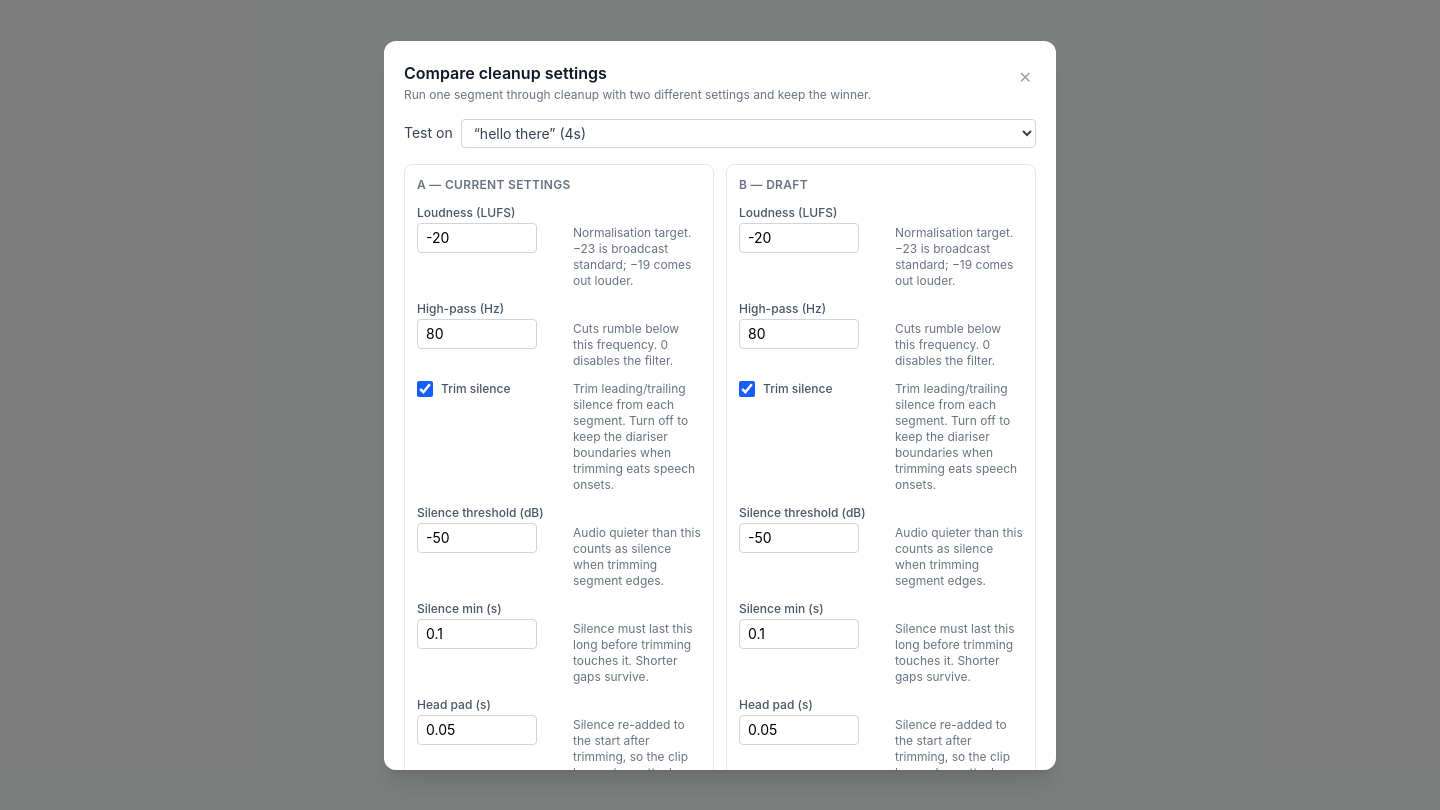
Test: CompareSettingsModal › saves a column’s values as project settings
expect the dropdown is enabled: met, box [461,118,1036,148]
Replace the text in the number field labelled "High-pass (Hz)" below "B — draft" with "120" at x=799, y=334, box [739,318,859,348]
(page scrolled)
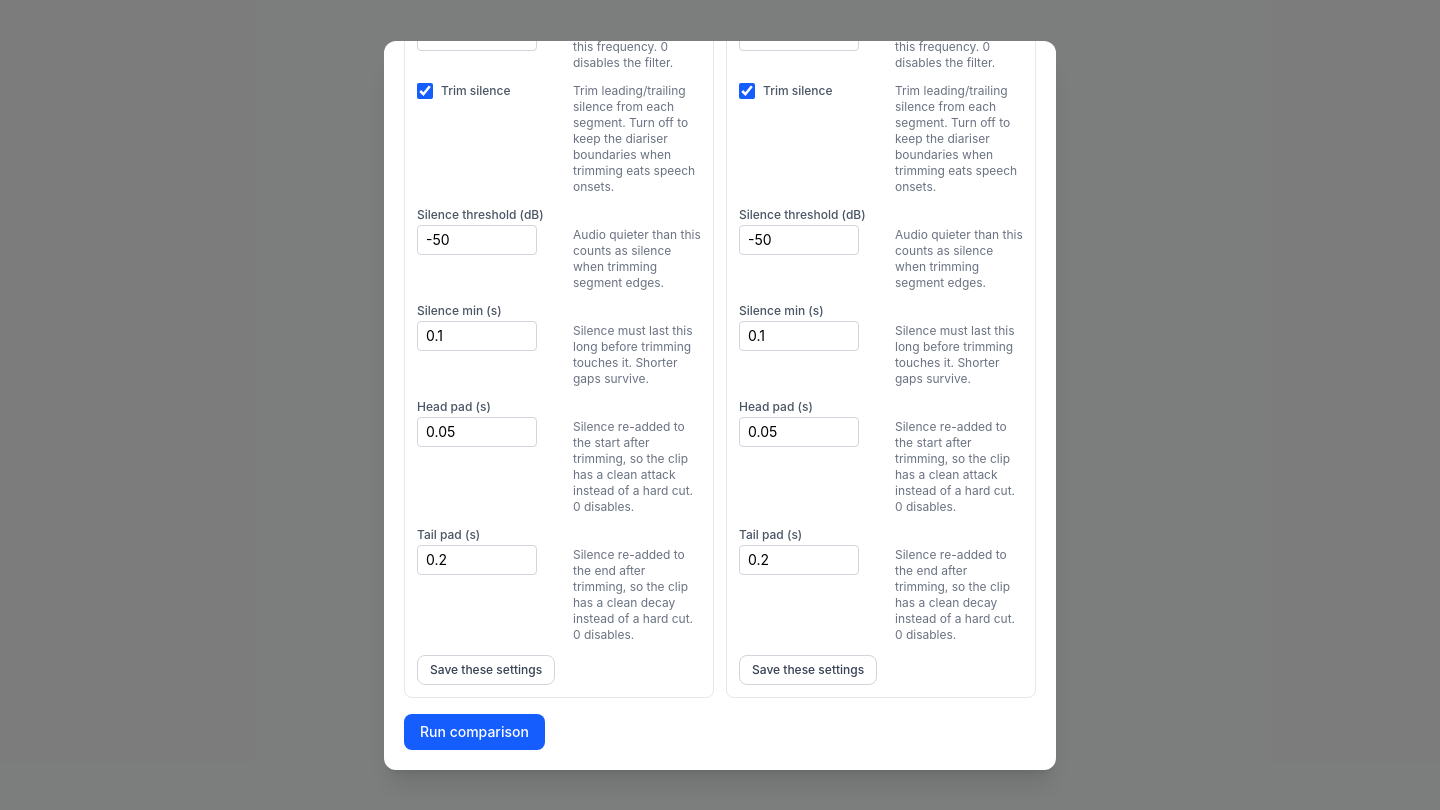
Click the 2nd button "Save these settings" at x=808, y=670, box [739,654,877,684]
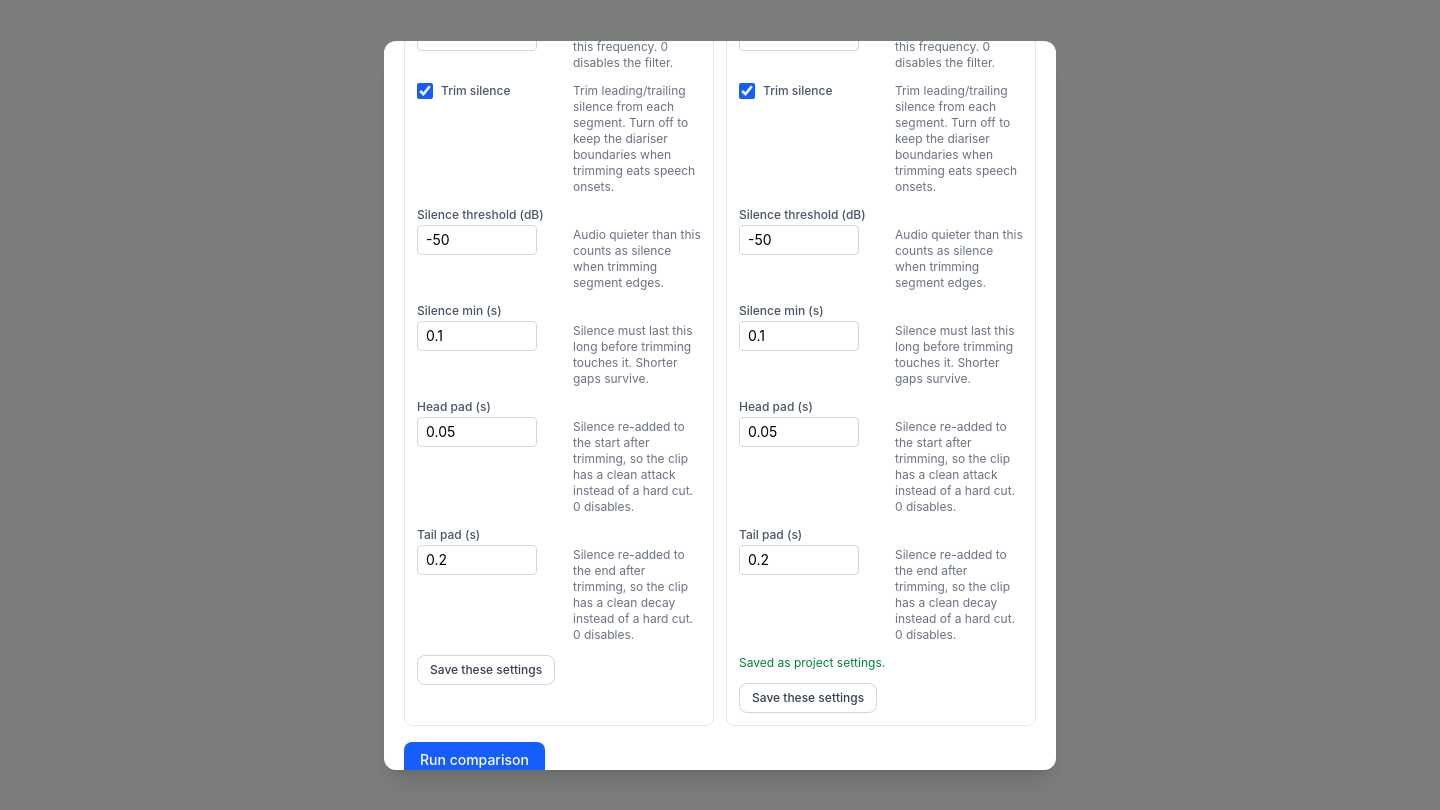
expect the text "Saved as project settings." is shown: met, box [739,654,885,670]
